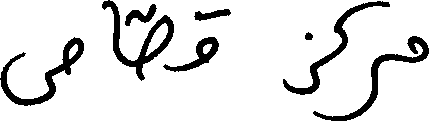ا: (110, 0, 120, 62)
ر: (357, 51, 377, 116)
ز: (281, 29, 320, 117)
ص: (0, 35, 84, 106), (137, 1, 172, 80)
ق: (193, 8, 218, 68)
ك: (332, 2, 358, 71)
م: (404, 34, 426, 64)
